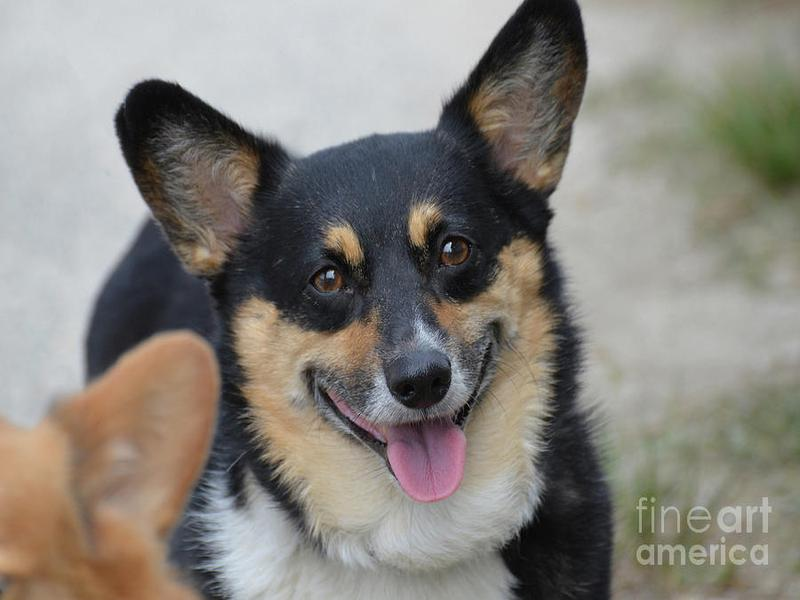corgi: (112, 3, 590, 503)
